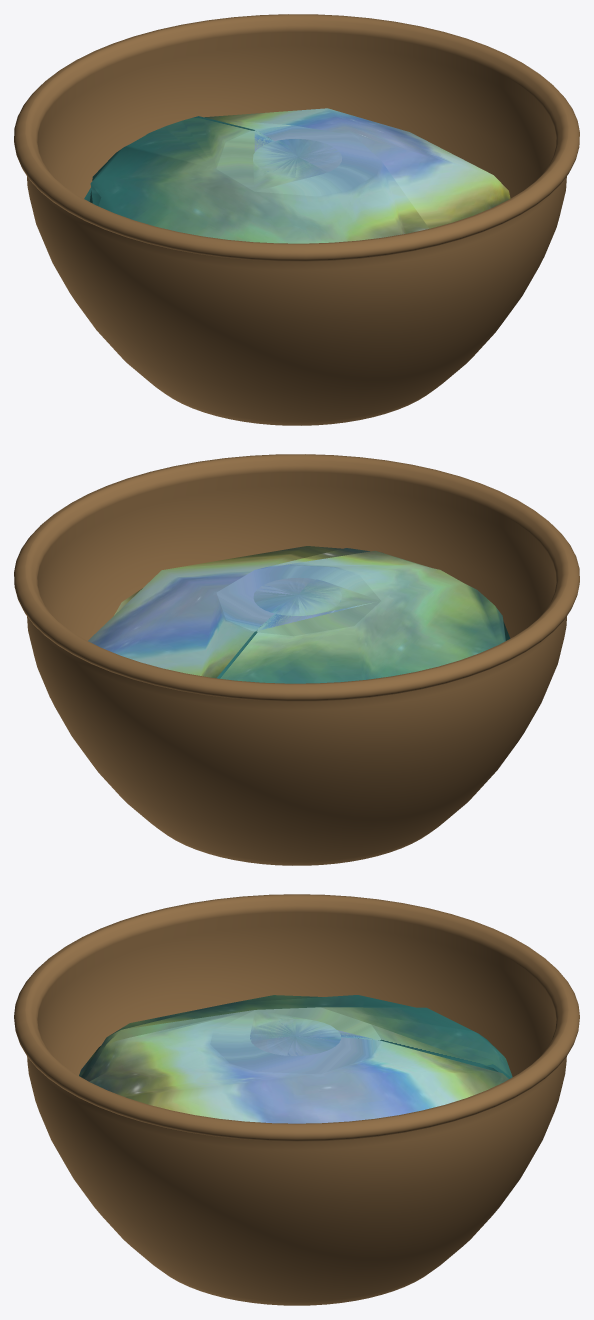
Rendered from beetle_paste.fbx.
3 views of the same model, one above another, from view 1: azimuth 30°, elevation 25°; view 2: azimuth 150°, elevation 25°; view 3: azimuth 270°, elevation 25° (orthographic).
Parts seen in each view (by area): view 1: Object_4; view 2: Object_4; view 3: Object_4.
Boxes of the visible parts, x1,y1,x2,y2 form: Object_4: (14,14,579,425); Object_4: (14,454,579,865); Object_4: (14,894,579,1305).
Size of the model in its own units: 46.85 by 21.51 by 46.85.
2 materials, 1 textured.
